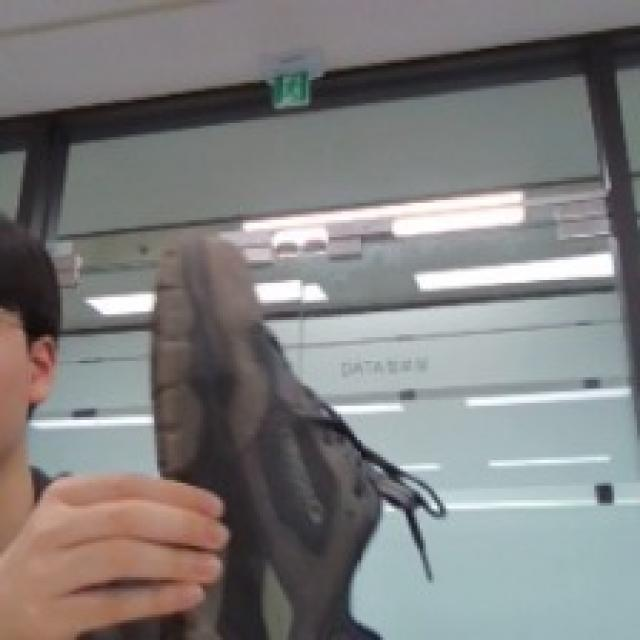shoe: (133, 217, 410, 640)
